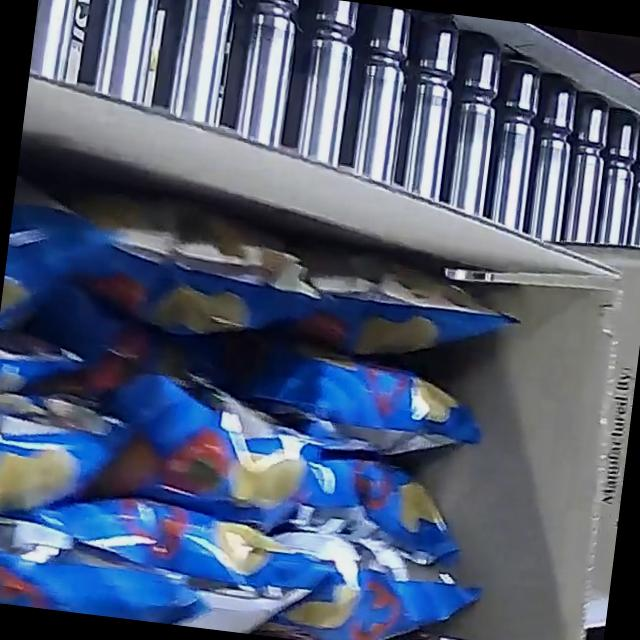paprika: (0, 195, 530, 640)
